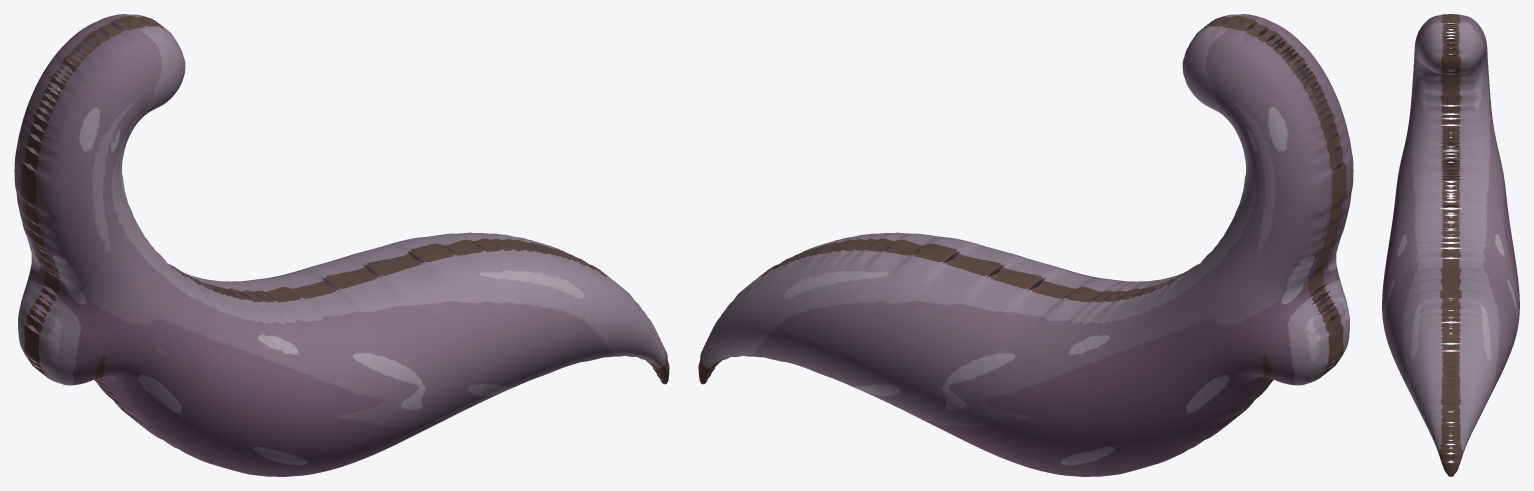
The model's file is cliff_vine.glb.
3 views of the same model, side by side, from view 1: azimuth 30°, elevation 25°; view 2: azimuth 150°, elevation 25°; view 3: azimuth 270°, elevation 25° (orthographic). The views are drawn at different scales.
Visible parts, largest first — view 1: cliff_vine; view 2: cliff_vine; view 3: cliff_vine.
Boxes of the visible parts, x1,y1,x2,y2 form: cliff_vine: (14,14,669,476); cliff_vine: (698,14,1353,476); cliff_vine: (1382,14,1519,476).
Size of the model in its own units: 0.989 by 0.7292 by 0.3047.
1 material, 1 textured.
